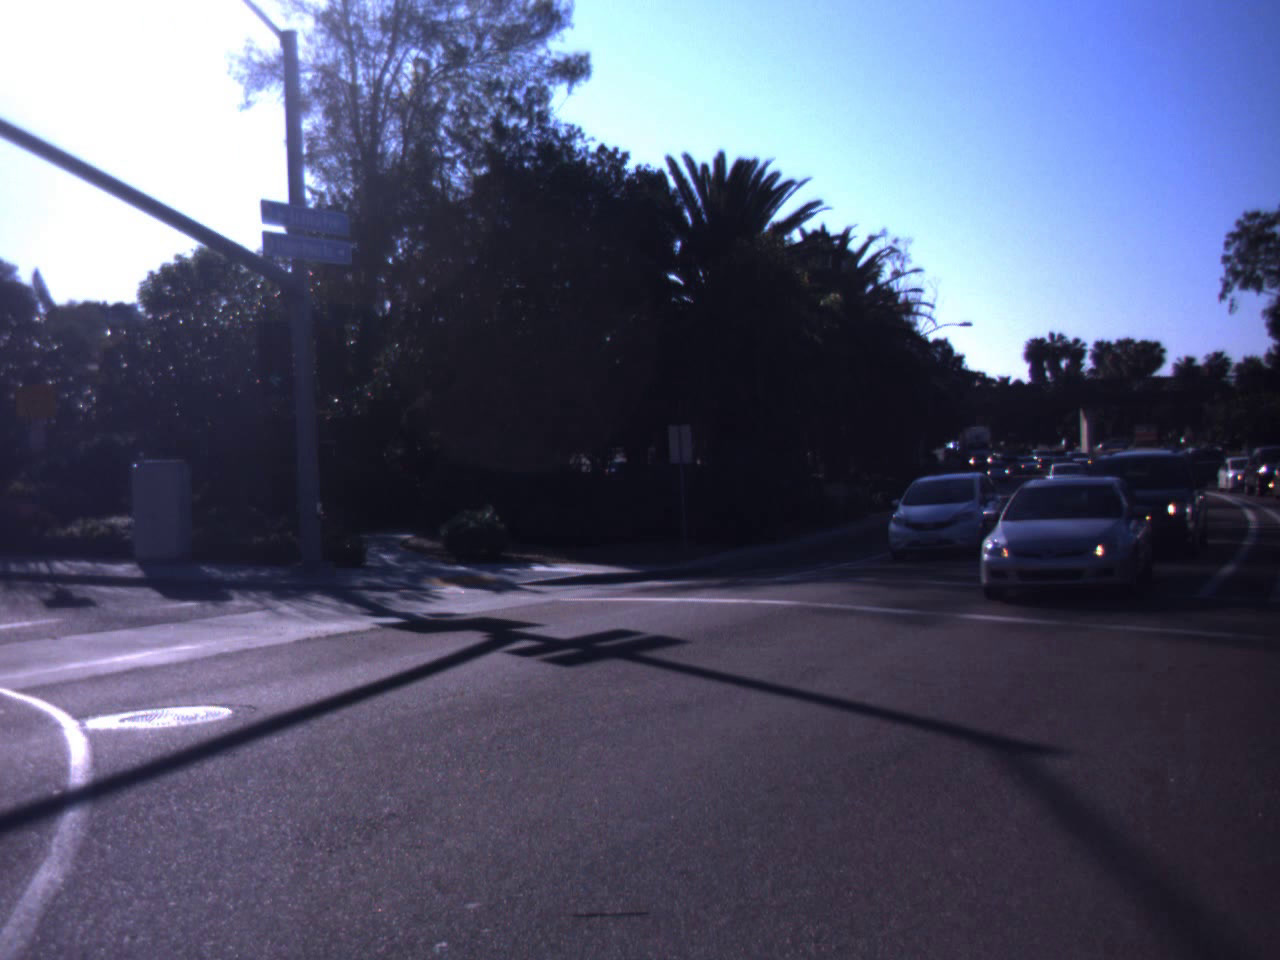go: (252, 331, 297, 391)
